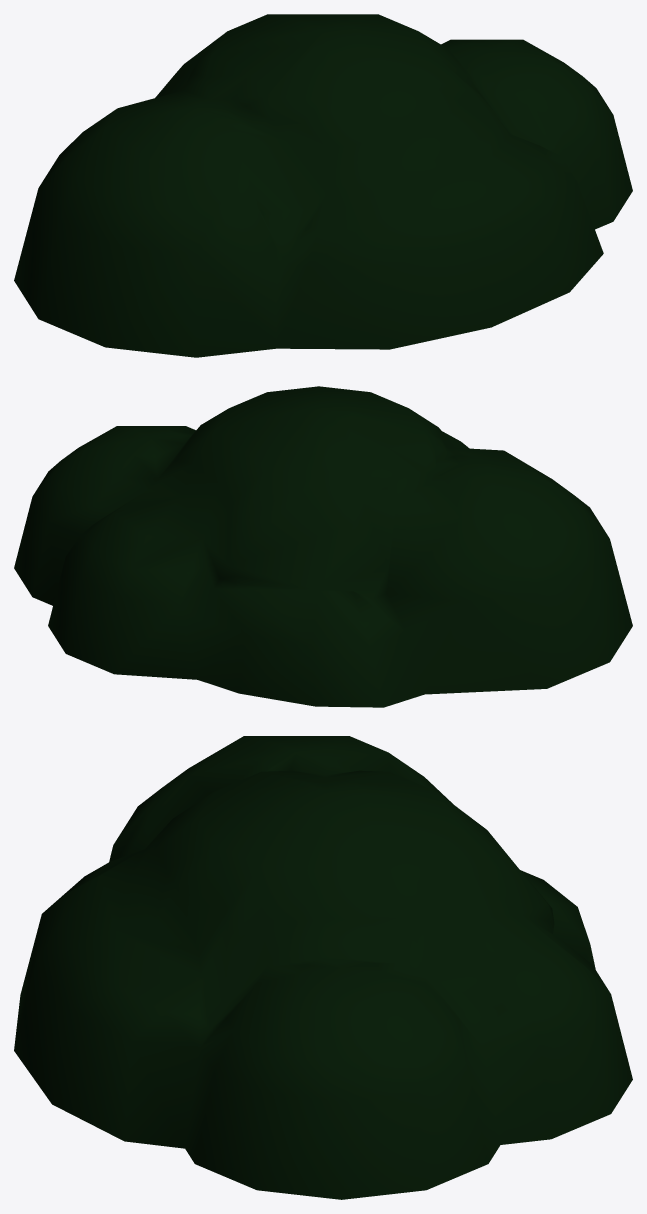
Rendered from Prop_Bush_01.FBX.
The picture shows the model from 3 angles, top to bottom: view 1: azimuth 30°, elevation 25°; view 2: azimuth 150°, elevation 25°; view 3: azimuth 270°, elevation 25°; orthographic projection. The views are drawn at different scales.
Visible parts, largest first — view 1: Prop_Bush_01; view 2: Prop_Bush_01; view 3: Prop_Bush_01.
Boxes of the visible parts, x1=… form: Prop_Bush_01: x1=14, y1=14, x2=632, y2=357; Prop_Bush_01: x1=14, y1=386, x2=632, y2=707; Prop_Bush_01: x1=14, y1=736, x2=632, y2=1199.
Bounding box in the file's own units: 136 × 44.95 × 106.
